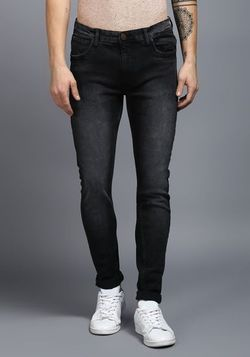jeans: (56, 21, 191, 300)
